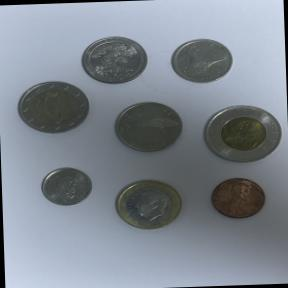coin: (193, 96, 288, 171), (106, 173, 190, 236), (108, 94, 188, 158), (13, 77, 90, 138), (77, 34, 150, 88), (198, 171, 268, 224), (34, 160, 96, 210)
